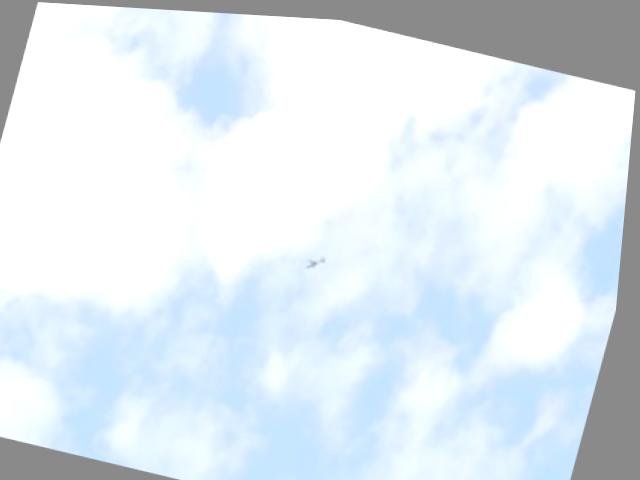uav: (304, 244, 334, 274)
